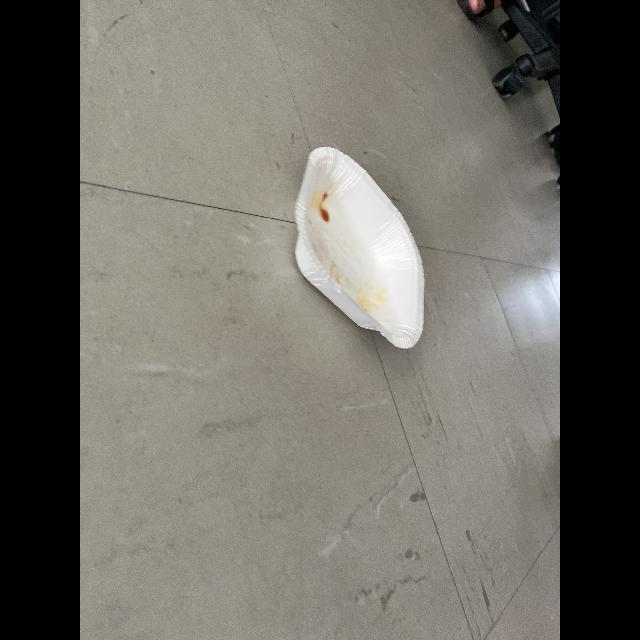cardboard_bowl: (268, 130, 446, 362)
